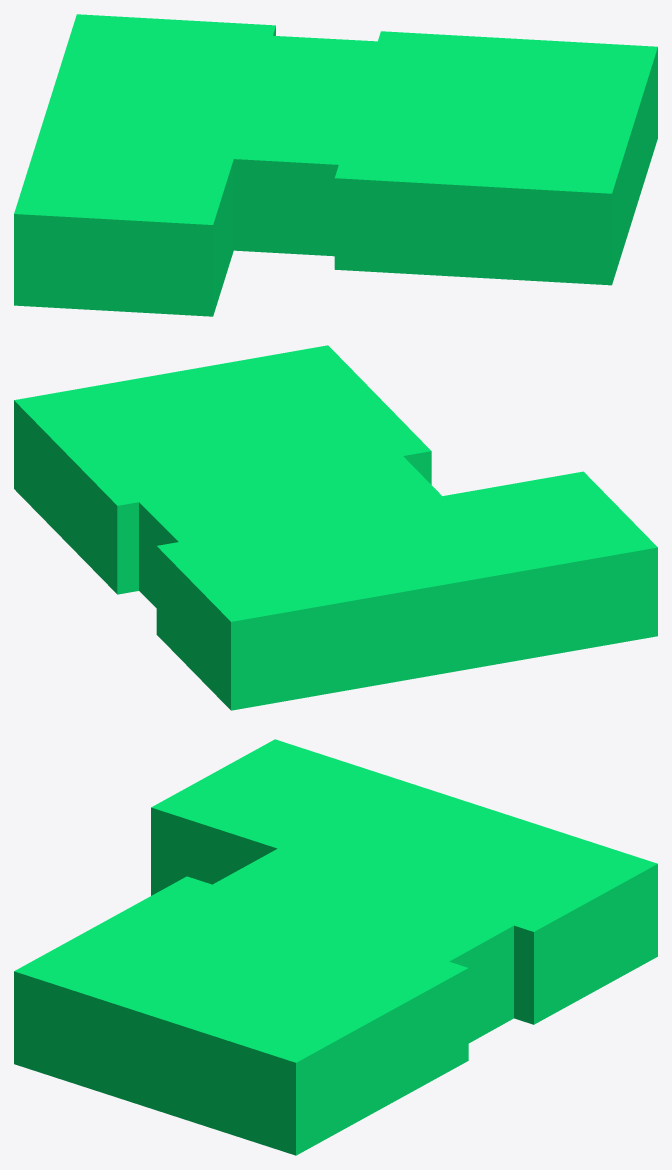
The model's file is DEHB01ALj0003AsN.gltf.
The picture shows the model from 3 angles, top to bottom: view 1: azimuth 30°, elevation 25°; view 2: azimuth 150°, elevation 25°; view 3: azimuth 270°, elevation 25°; orthographic projection. The views are drawn at different scales.
Parts seen in each view (by area): view 1: Z_UP; view 2: Z_UP; view 3: Z_UP.
Boxes of the visible parts, bbox=[...] form: Z_UP: bbox=[14, 14, 657, 316]; Z_UP: bbox=[14, 345, 657, 710]; Z_UP: bbox=[14, 739, 657, 1155].
Size of the model in its own units: 23.8 by 3.18 by 20.01.
